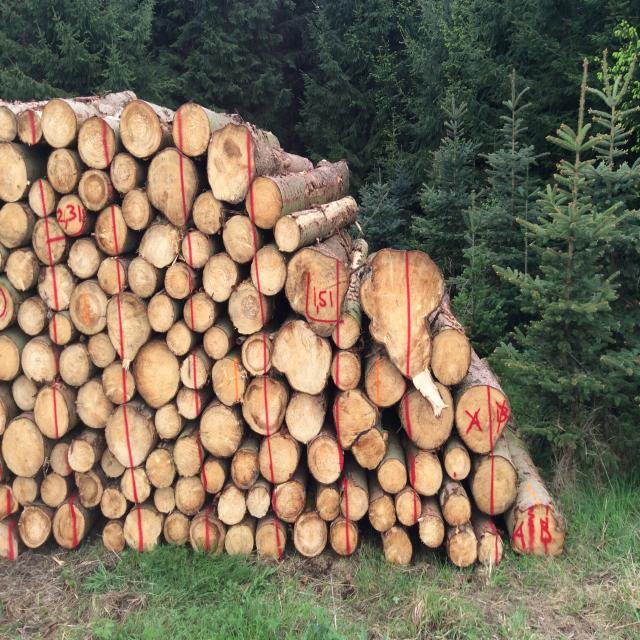wood-log: (359, 246, 444, 354), (270, 323, 331, 395), (206, 123, 257, 202), (457, 385, 513, 455), (289, 248, 343, 320), (401, 380, 452, 450), (106, 403, 159, 467), (132, 337, 179, 406), (146, 149, 188, 225), (110, 292, 152, 366), (240, 378, 288, 437), (469, 455, 516, 515), (2, 418, 48, 478), (334, 390, 378, 447), (432, 328, 474, 386), (198, 404, 243, 457), (120, 100, 162, 156), (34, 383, 75, 440), (361, 354, 406, 405), (227, 283, 267, 337), (78, 115, 118, 168), (172, 104, 212, 157), (260, 432, 300, 484), (70, 282, 106, 338), (285, 394, 325, 444), (77, 380, 117, 430), (138, 223, 180, 269), (223, 215, 262, 264), (247, 180, 285, 230), (307, 432, 343, 484), (125, 503, 163, 552), (97, 203, 132, 256), (54, 496, 90, 547), (211, 350, 245, 404), (29, 215, 67, 263), (202, 253, 239, 302), (253, 246, 289, 296), (41, 98, 77, 147), (40, 266, 78, 311), (22, 336, 58, 383), (0, 143, 27, 203), (409, 449, 444, 495), (58, 195, 94, 237), (58, 342, 92, 386), (273, 478, 307, 522), (104, 359, 137, 404), (48, 148, 80, 194), (351, 428, 386, 470), (19, 504, 52, 548), (7, 249, 40, 292), (257, 514, 287, 561), (296, 513, 328, 557), (172, 435, 205, 477), (446, 524, 478, 566), (193, 192, 225, 234), (0, 202, 29, 248), (183, 292, 216, 332), (70, 238, 103, 278), (121, 188, 152, 230), (128, 257, 159, 298), (231, 443, 259, 488), (80, 169, 110, 211), (27, 175, 57, 217), (174, 476, 205, 516), (417, 500, 443, 547), (112, 154, 141, 196), (183, 346, 212, 388), (17, 298, 49, 336), (181, 230, 213, 268), (240, 333, 268, 376), (381, 525, 411, 565), (330, 516, 360, 556), (147, 446, 177, 486), (334, 350, 364, 390), (148, 292, 177, 332), (217, 488, 247, 526), (192, 517, 222, 555), (121, 467, 152, 503), (227, 519, 256, 557), (339, 483, 368, 521), (441, 492, 471, 528), (378, 460, 409, 494), (369, 494, 396, 533), (88, 332, 118, 367), (156, 403, 185, 439), (165, 262, 193, 299), (333, 313, 361, 350), (100, 481, 128, 518), (10, 374, 37, 411), (316, 484, 343, 520), (40, 473, 68, 507), (274, 218, 302, 252), (167, 323, 195, 357), (204, 324, 232, 358), (0, 334, 20, 380), (201, 457, 227, 492), (445, 446, 471, 481), (165, 511, 190, 547), (247, 482, 272, 518), (50, 311, 76, 345), (76, 472, 102, 506), (395, 488, 417, 527), (70, 437, 94, 472), (13, 476, 39, 507), (126, 506, 143, 552), (51, 441, 74, 475), (0, 277, 14, 332), (176, 387, 199, 419), (104, 521, 125, 552), (0, 106, 17, 143), (190, 514, 206, 552), (0, 481, 16, 518), (156, 486, 176, 514), (0, 383, 8, 438), (0, 454, 12, 484), (0, 627, 25, 639), (0, 243, 8, 271)
